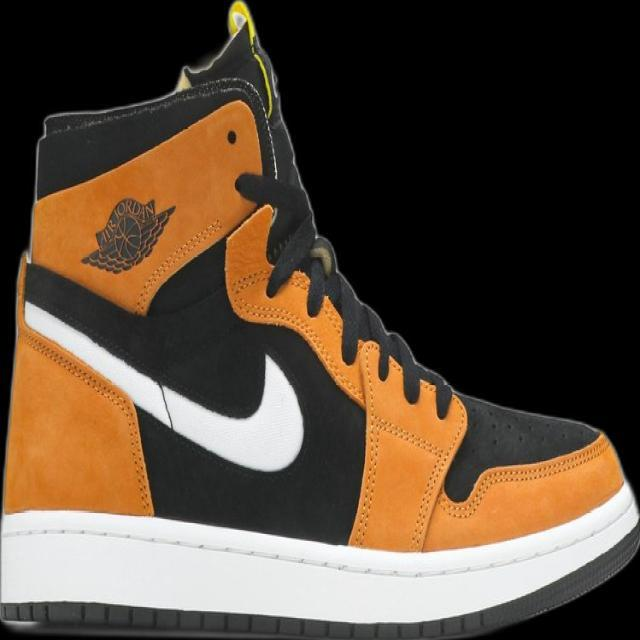J1_InsoleChar: (0, 0, 638, 639)
J1_ShoeLogo: (79, 195, 176, 274)
J1_StitchPattern: (223, 207, 467, 550), (0, 507, 636, 583), (19, 322, 156, 515), (346, 338, 459, 552), (1, 599, 470, 639), (438, 429, 612, 521), (131, 214, 226, 315), (346, 338, 384, 550), (407, 445, 452, 552), (370, 412, 443, 459), (301, 235, 337, 317)
